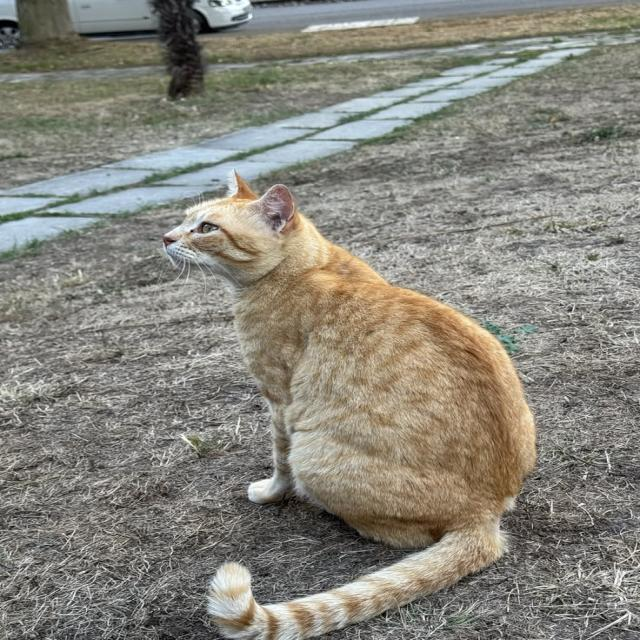sarman: (76, 136, 583, 640)
